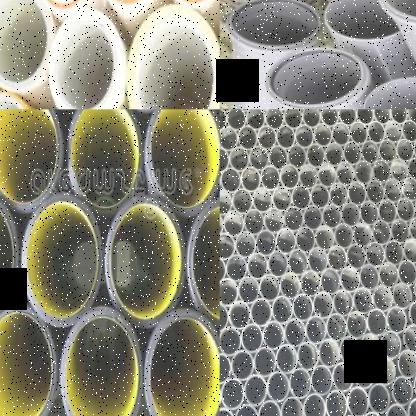pipe: (21, 196, 102, 326), (126, 3, 220, 109), (106, 200, 184, 327), (59, 304, 144, 416), (145, 308, 220, 416), (145, 110, 220, 214), (48, 8, 122, 110), (68, 109, 141, 211), (265, 48, 368, 109), (0, 304, 56, 416), (0, 109, 59, 209), (227, 0, 323, 50), (0, 0, 53, 90), (186, 196, 219, 329), (324, 0, 401, 41), (0, 191, 18, 324), (364, 76, 416, 110), (379, 0, 416, 23), (220, 378, 245, 412), (288, 368, 312, 401), (230, 350, 254, 382), (243, 375, 267, 407), (252, 347, 276, 378), (266, 372, 289, 404), (338, 335, 361, 366), (373, 356, 396, 387), (331, 362, 353, 394), (390, 377, 414, 406), (262, 321, 285, 351), (346, 386, 369, 416), (275, 344, 297, 375), (368, 384, 390, 415), (240, 324, 263, 353), (228, 301, 251, 330), (296, 341, 318, 371), (310, 366, 332, 396), (360, 332, 381, 363), (237, 277, 260, 305), (35, 0, 93, 11), (304, 316, 326, 345), (345, 311, 367, 340), (250, 298, 272, 327), (318, 339, 339, 369), (220, 326, 241, 356), (284, 318, 305, 348), (312, 291, 334, 319), (352, 287, 374, 315), (258, 274, 280, 302), (225, 255, 247, 283), (380, 331, 401, 360), (386, 306, 407, 335), (353, 360, 374, 389), (325, 389, 347, 416), (325, 314, 346, 342), (292, 294, 313, 322), (391, 282, 412, 310), (279, 272, 300, 300), (247, 253, 268, 281), (267, 251, 288, 279), (275, 228, 296, 256), (272, 296, 292, 325), (307, 247, 328, 274), (235, 232, 256, 259), (255, 230, 276, 257), (223, 211, 244, 238), (366, 309, 386, 337), (332, 289, 352, 317), (300, 270, 320, 298), (397, 350, 416, 379), (219, 278, 238, 307), (243, 210, 264, 236), (302, 205, 323, 231), (221, 168, 242, 194), (372, 285, 392, 312), (339, 266, 359, 293), (359, 264, 379, 291), (378, 262, 398, 289), (287, 249, 307, 276), (346, 244, 366, 271), (295, 227, 315, 254), (334, 223, 354, 250), (264, 208, 284, 235), (284, 206, 304, 233), (232, 188, 252, 215), (252, 187, 272, 214), (302, 392, 324, 416), (320, 269, 340, 295), (327, 246, 347, 272), (272, 186, 292, 212), (310, 184, 330, 210), (240, 167, 260, 193), (260, 166, 280, 192), (280, 165, 300, 191), (324, 142, 344, 168), (397, 260, 416, 287), (322, 203, 341, 230), (340, 202, 360, 227), (230, 147, 250, 172), (238, 126, 258, 151), (384, 240, 403, 266), (315, 226, 334, 252), (353, 222, 372, 248), (396, 197, 415, 223), (329, 183, 348, 209), (354, 160, 373, 186), (306, 143, 325, 169), (219, 126, 238, 152), (268, 146, 288, 170), (390, 219, 409, 244), (378, 199, 397, 224), (336, 162, 355, 187), (361, 140, 380, 165), (276, 125, 295, 150), (313, 123, 332, 148), (366, 242, 384, 268), (372, 220, 390, 246), (360, 201, 378, 227), (292, 185, 310, 211), (288, 144, 306, 170), (299, 165, 318, 189), (372, 160, 391, 184), (343, 142, 362, 166), (295, 125, 314, 149), (349, 121, 368, 145), (280, 397, 304, 416), (366, 180, 384, 205), (384, 178, 402, 203), (250, 146, 268, 171), (396, 138, 414, 163), (258, 126, 276, 151), (163, 0, 219, 8), (348, 182, 366, 206), (318, 164, 336, 188), (390, 159, 408, 183), (378, 140, 396, 164), (332, 123, 350, 147), (367, 121, 385, 145), (384, 120, 402, 144), (226, 109, 246, 130), (245, 109, 265, 130), (264, 109, 284, 130), (219, 233, 234, 260), (402, 325, 416, 353), (401, 176, 416, 202), (257, 400, 281, 416), (284, 109, 302, 130), (402, 238, 416, 264), (401, 120, 416, 143), (220, 353, 231, 384), (220, 189, 232, 216), (302, 110, 320, 128), (320, 110, 338, 127), (233, 404, 258, 416), (338, 110, 356, 126), (356, 110, 374, 126), (390, 109, 408, 124), (384, 405, 408, 416), (374, 110, 390, 126), (406, 157, 416, 182), (407, 216, 416, 243), (407, 301, 416, 327), (220, 147, 229, 173), (220, 304, 228, 332), (406, 399, 416, 416), (220, 256, 226, 284), (220, 109, 227, 132), (406, 109, 416, 124), (219, 407, 234, 416), (412, 372, 416, 400), (361, 412, 384, 416), (413, 278, 416, 304), (413, 138, 416, 161)
